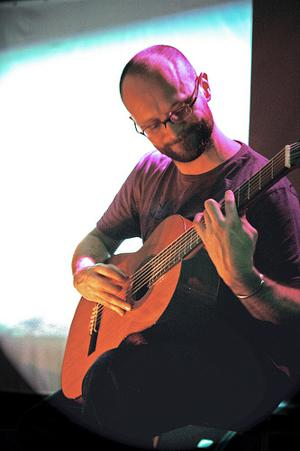person: (71, 43, 300, 449)
